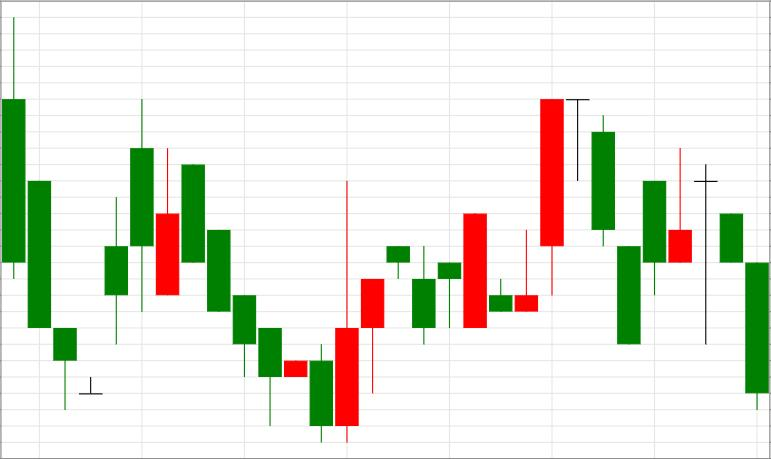bullish_engulfing_rise: (181, 164, 359, 444)
